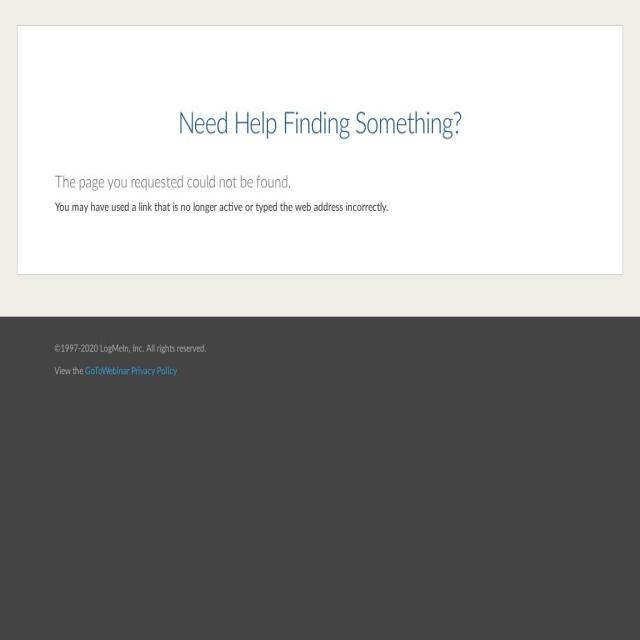heading: (55, 109, 585, 139), (55, 172, 585, 192)
link: (85, 366, 177, 376)
text: (55, 199, 585, 216), (54, 342, 586, 356), (54, 366, 85, 376)
